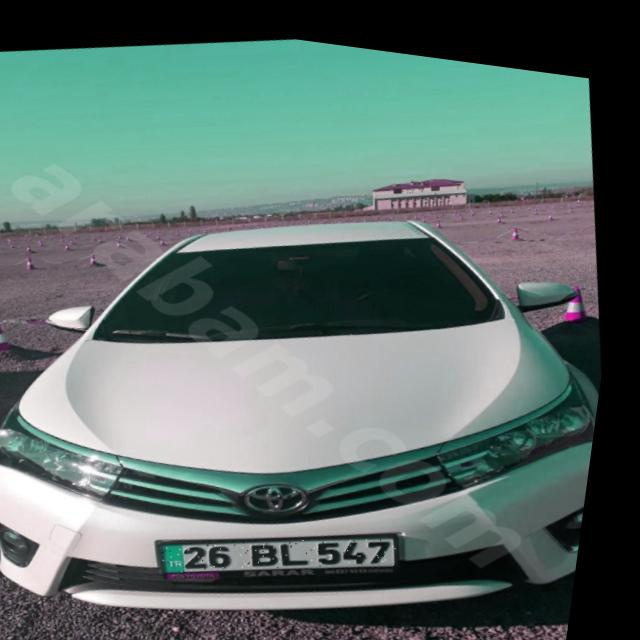license_plate: (170, 498, 414, 591)
